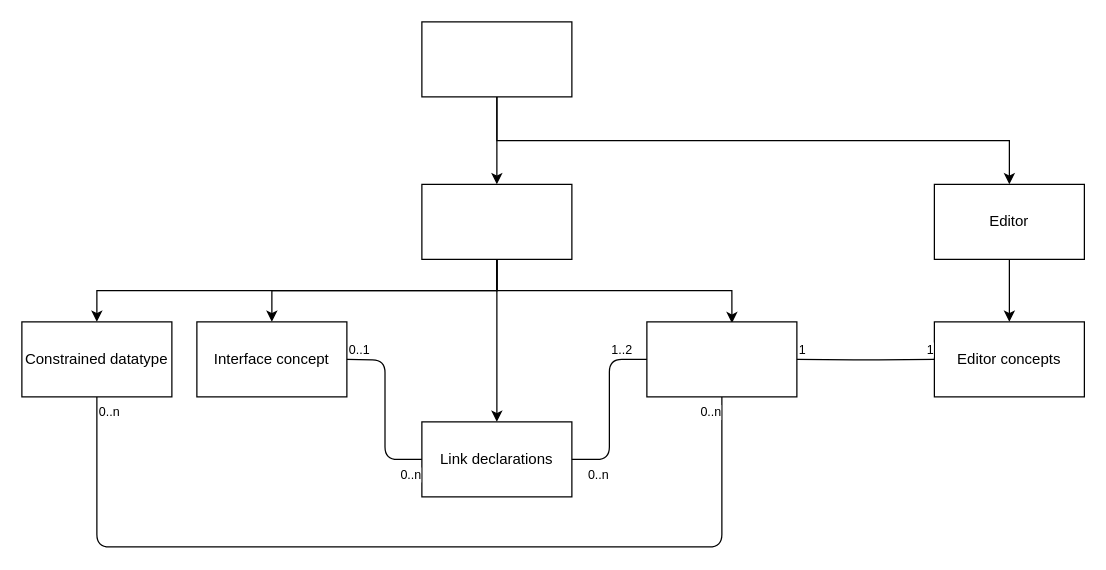
The diagram is 1106 pixels wide and 570 high, and some of its shapes have lost their labels. The centre of each missing label's shape, as x and y in pixels:
"Concepts" belongs at (x=721, y=359).
"Language aspects" belongs at (x=496, y=59).
"Structure" belongs at (x=496, y=221).
